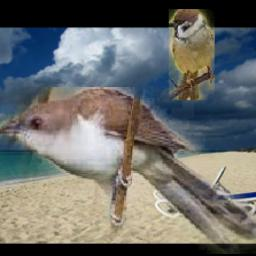Cuckoo: (0, 88, 256, 255)
Sparrow: (169, 9, 215, 100)
